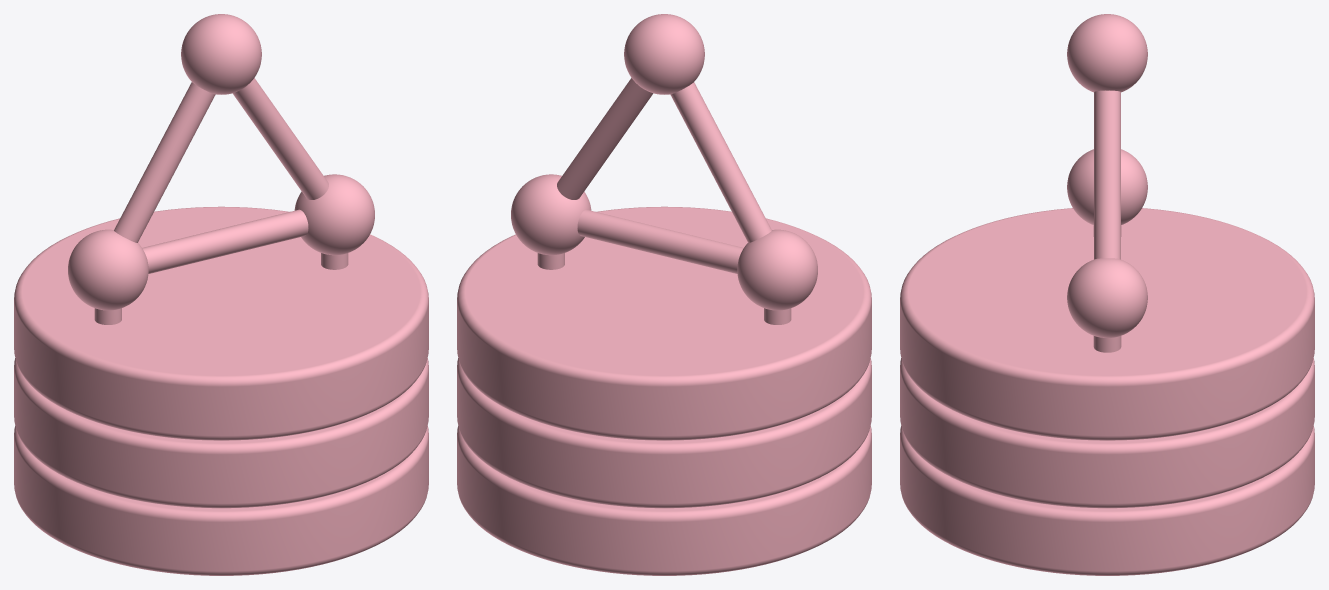
File: neptune.glb
The picture shows the model from 3 angles, left to right: view 1: azimuth 30°, elevation 25°; view 2: azimuth 150°, elevation 25°; view 3: azimuth 270°, elevation 25°; orthographic projection.
Visible parts, largest first — view 1: Disc 3, Disc 2, Disc 1, Node 2, Node 0, Edge 2, Edge 0, Node 1, Edge 1; view 2: Disc 3, Disc 2, Disc 1, Node 2, Node 0, Edge 2, Edge 0, Node 1, Edge 1; view 3: Disc 3, Disc 2, Disc 1, Node 1, Node 2, Edge 1, Node 0.
Boxes of the visible parts, x1=… form: Disc 3: x1=14, y1=206, x2=428, y2=440; Disc 2: x1=14, y1=358, x2=428, y2=508; Disc 1: x1=14, y1=426, x2=428, y2=575; Node 2: x1=181, y1=14, x2=261, y2=94; Node 0: x1=68, y1=229, x2=148, y2=310; Edge 2: x1=114, y1=82, x2=215, y2=242; Edge 0: x1=142, y1=209, x2=308, y2=273; Node 1: x1=294, y1=174, x2=374, y2=255; Edge 1: x1=232, y1=78, x2=328, y2=199; Disc 3: x1=457, y1=206, x2=871, y2=440; Disc 2: x1=457, y1=358, x2=871, y2=508; Disc 1: x1=457, y1=426, x2=871, y2=575; Node 2: x1=624, y1=14, x2=704, y2=94; Node 0: x1=737, y1=229, x2=817, y2=310; Edge 2: x1=670, y1=82, x2=771, y2=242; Edge 0: x1=577, y1=209, x2=743, y2=273; Node 1: x1=511, y1=174, x2=591, y2=255; Edge 1: x1=557, y1=78, x2=653, y2=199; Disc 3: x1=900, y1=208, x2=1314, y2=440; Disc 2: x1=900, y1=358, x2=1314, y2=508; Disc 1: x1=900, y1=426, x2=1314, y2=575; Node 1: x1=1067, y1=258, x2=1147, y2=337; Node 2: x1=1067, y1=14, x2=1147, y2=92; Edge 1: x1=1094, y1=90, x2=1120, y2=259; Node 0: x1=1067, y1=149, x2=1147, y2=224.
Size of the model in its own units: 2 by 2.52 by 2.
